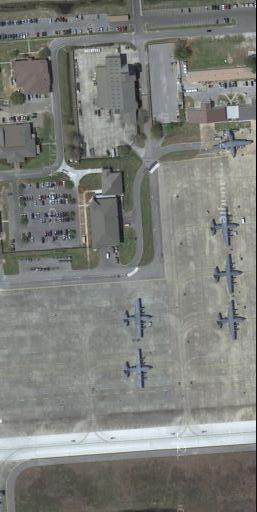C-130: (206, 203, 244, 250), (214, 296, 247, 344), (122, 346, 155, 394), (121, 295, 154, 342), (212, 252, 246, 297), (210, 126, 253, 160)
